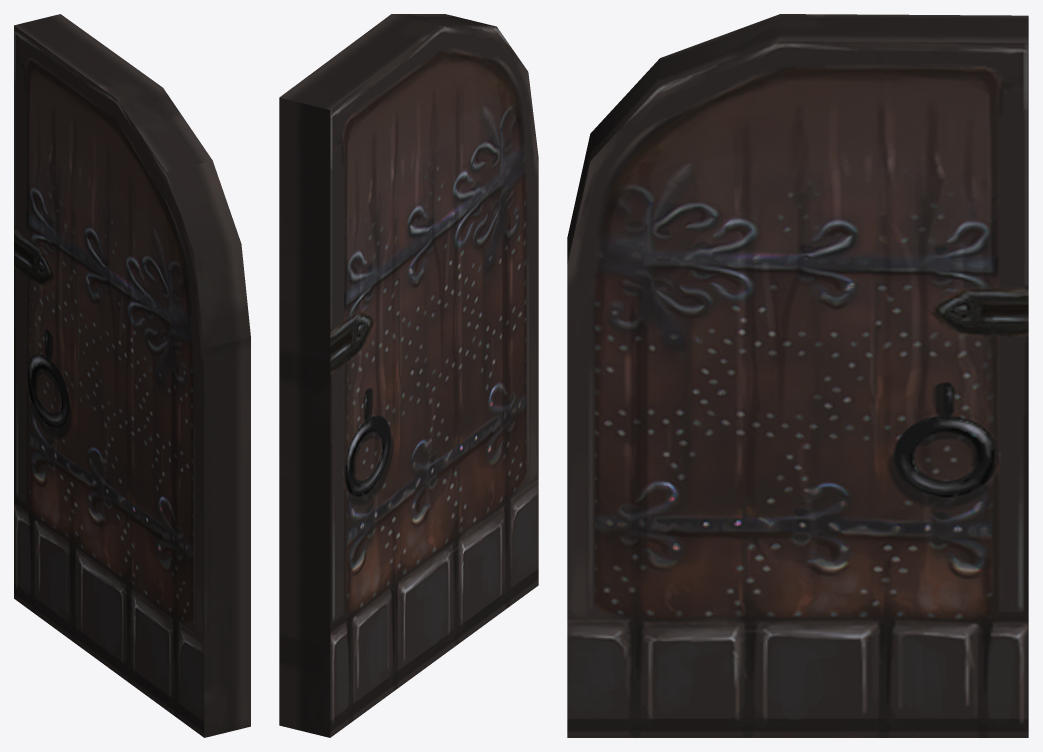
File: gate.FBX
The picture shows the model from 3 angles, left to right: view 1: azimuth 30°, elevation 25°; view 2: azimuth 150°, elevation 25°; view 3: azimuth 270°, elevation 25°; orthographic projection. The views are drawn at different scales.
Visible parts, largest first — view 1: gate; view 2: gate; view 3: gate.
Part boxes in pixels (x1,y1,x2,y2): gate: (14,14,250,737); gate: (279,14,538,737); gate: (567,14,1028,737).
Size of the model in its own units: 0.284 by 3.35 by 2.01.
1 material, 1 textured.
